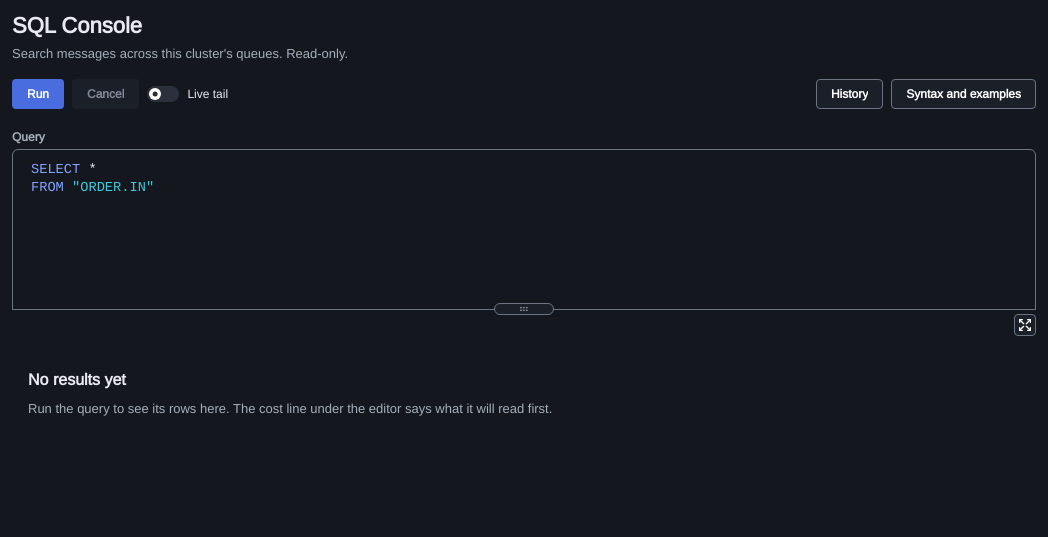
Scenario: SqlConsoleView › does not silently re-run a query whose stream dropped
The image size is (1048, 537).
Step 1. Click the button "Run" → (38, 94), box [12,79,64,109]
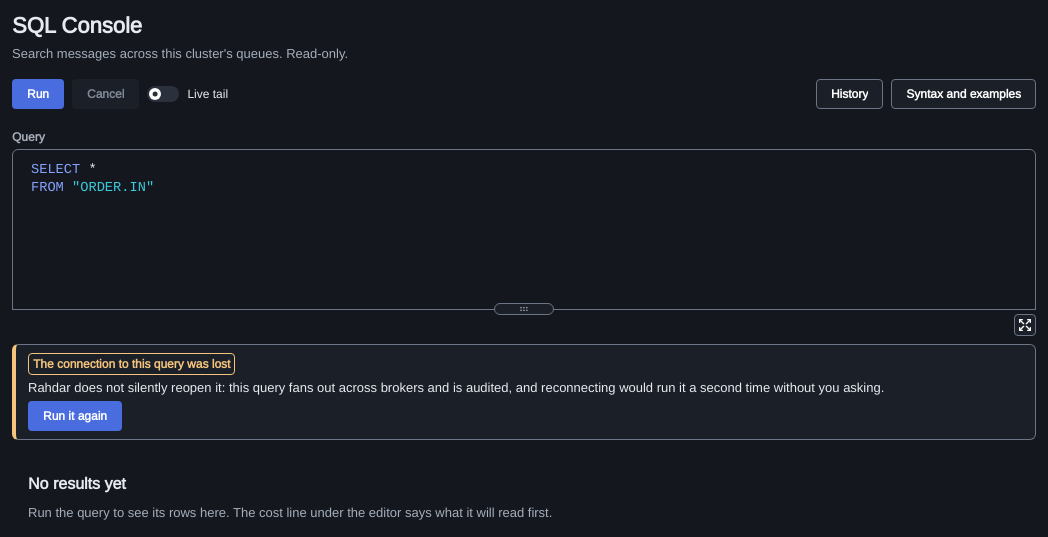
Check: the text "connection to this query was lost" is shown 2 times
Check: the button "Run it again" is shown, box [28,401,122,431]
